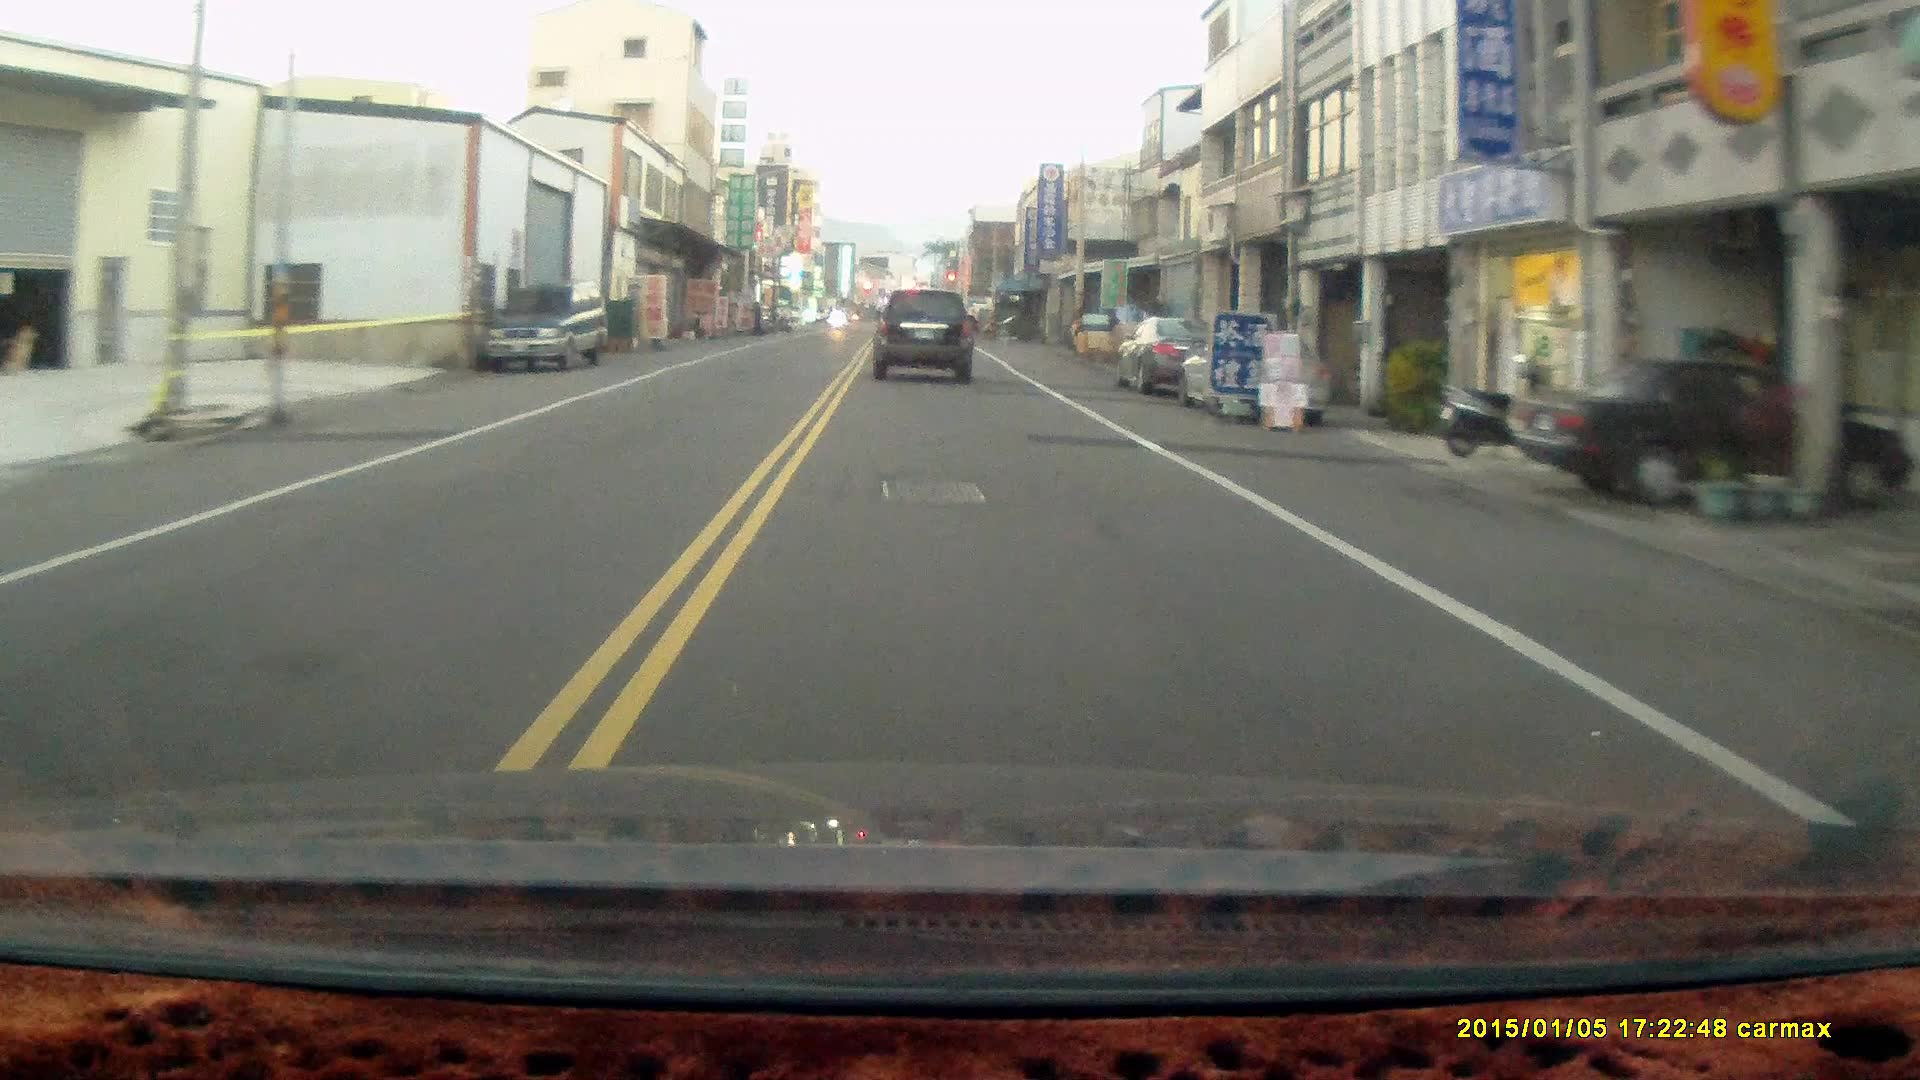vehicle: (1516, 361, 1894, 516), (1178, 331, 1336, 426), (481, 281, 607, 376), (872, 291, 976, 389), (1117, 316, 1236, 396)
